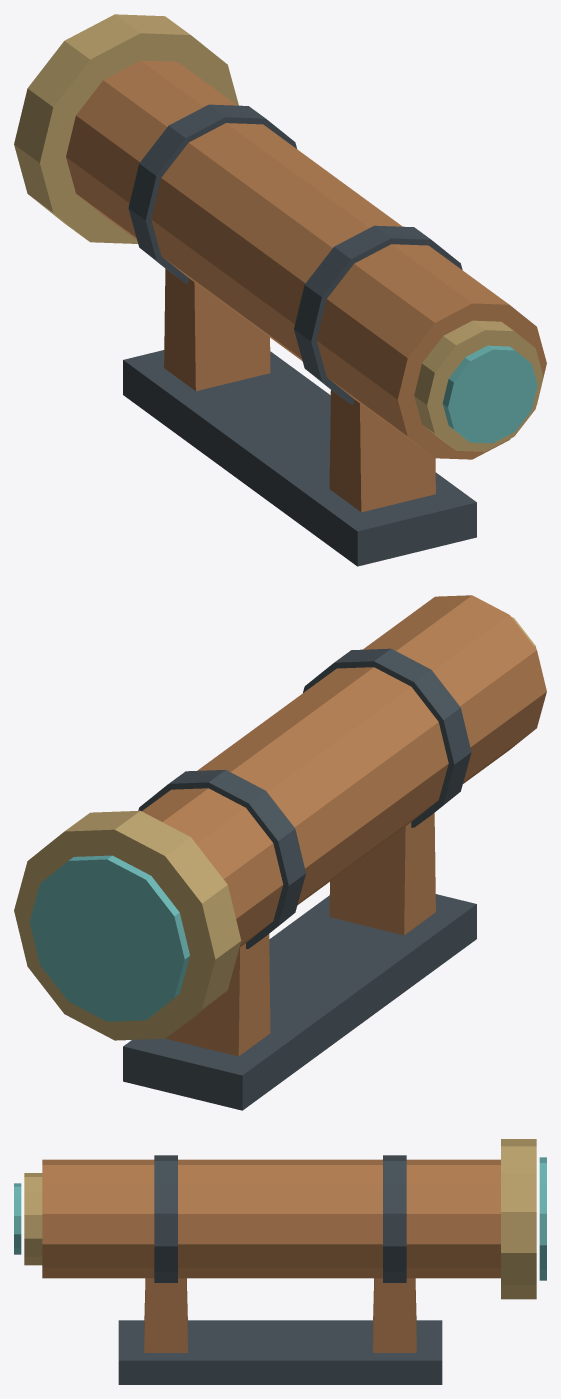
File: AEW_Scope_SurveyorGlass.fbx
3 views of the same model, one above another, from view 1: azimuth 30°, elevation 25°; view 2: azimuth 150°, elevation 25°; view 3: azimuth 270°, elevation 25° (orthographic). The views are drawn at different scales.
Visible parts, largest first — view 1: AEW_Scope_SurveyorGlass; view 2: AEW_Scope_SurveyorGlass; view 3: AEW_Scope_SurveyorGlass.
Boxes of the visible parts, <box> form: AEW_Scope_SurveyorGlass: <box>14,14,546,566</box>; AEW_Scope_SurveyorGlass: <box>14,595,546,1110</box>; AEW_Scope_SurveyorGlass: <box>14,1139,546,1384</box>.
Size of the model in its own units: 0.108 by 0.162 by 0.358.
